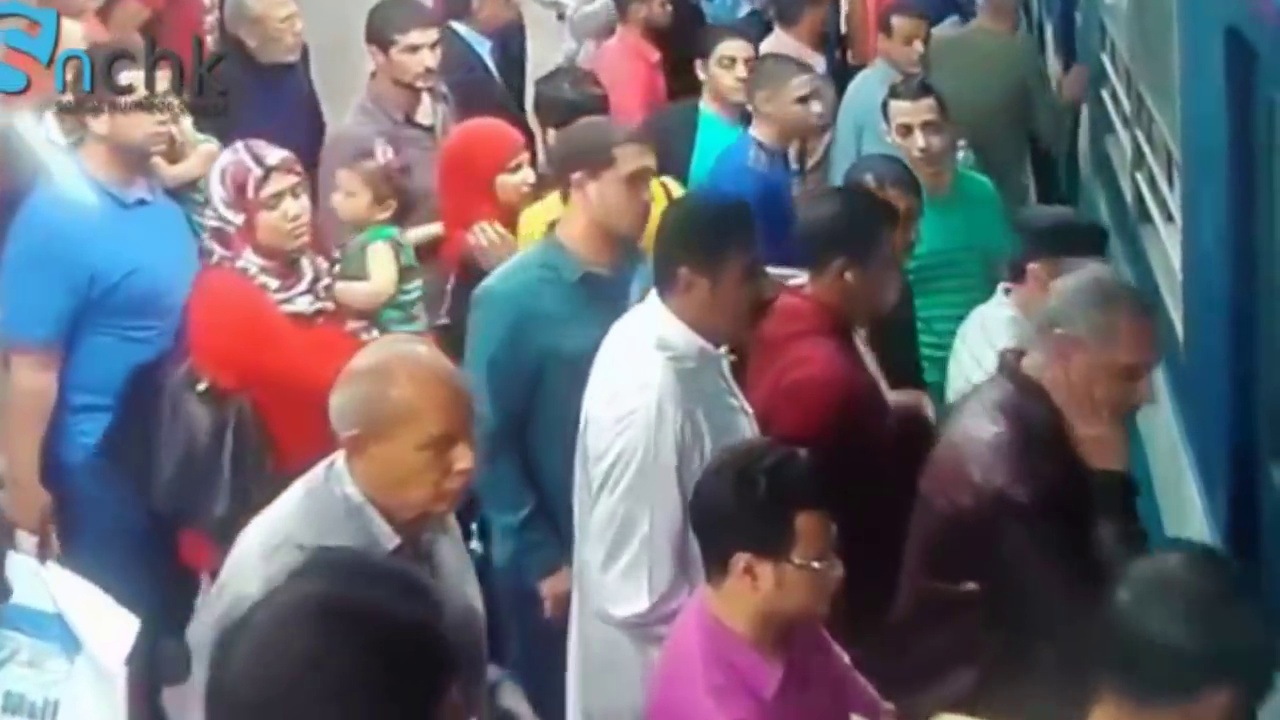face: (381, 389, 482, 515), (773, 515, 855, 622), (704, 236, 771, 350), (253, 178, 308, 264), (886, 102, 951, 174), (239, 8, 306, 65), (381, 31, 442, 90), (704, 46, 763, 96), (490, 148, 534, 211)
